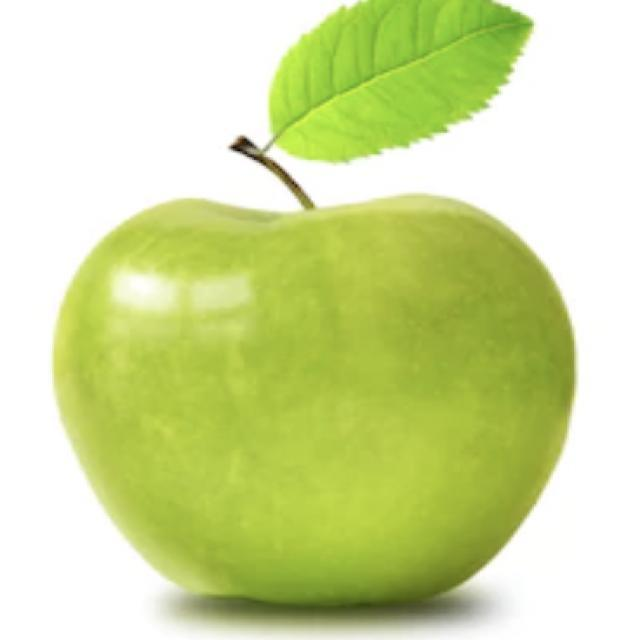Fresh Apple: (85, 196, 583, 612)
